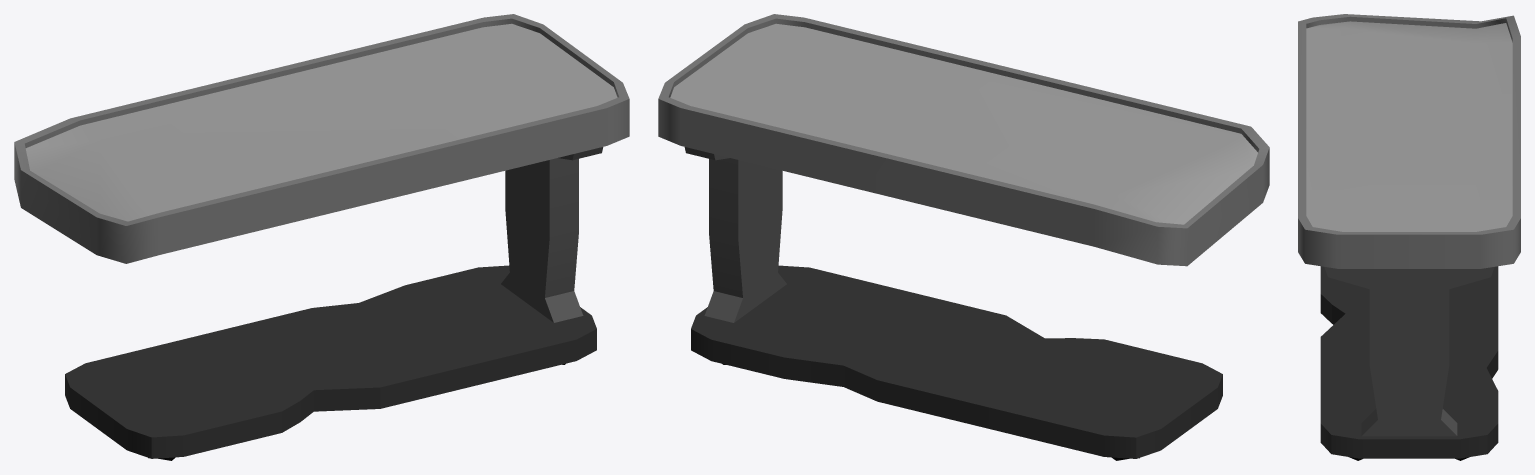
Rendered from Bedside Table 02.fbx.
The picture shows the model from 3 angles, left to right: view 1: azimuth 30°, elevation 25°; view 2: azimuth 150°, elevation 25°; view 3: azimuth 270°, elevation 25°; orthographic projection. The views are drawn at different scales.
Visible parts, largest first — view 1: Bedside_Table_02; view 2: Bedside_Table_02; view 3: Bedside_Table_02.
Part boxes in pixels (<box>): Bedside_Table_02: <box>14,14,629,460</box>; Bedside_Table_02: <box>658,14,1269,460</box>; Bedside_Table_02: <box>1298,14,1520,460</box>.
Bounding box in the file's own units: 144 × 72.31 × 59.19.
